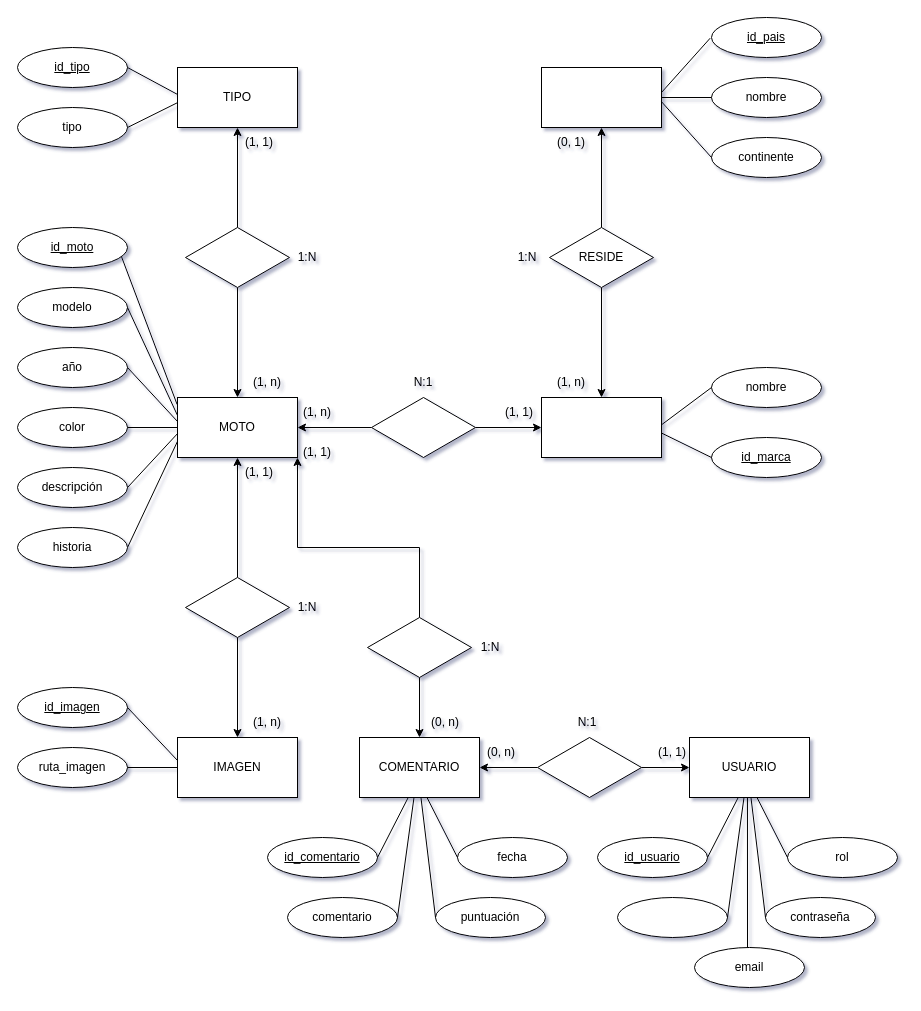
Some shapes in this 921 by 1011 pixel diagram are drawn without their labels. The shapes that lost their labels are listed below. From the top down, each one's box as (x1, y1, x2, y2) in pixels, then its label:
(540, 66, 662, 128): PAIS
(184, 226, 290, 288): CLASIFICADA
(370, 396, 476, 458): FABRICADA
(540, 396, 662, 458): MARCA
(184, 576, 290, 638): TIENE
(366, 616, 472, 678): RECIBE
(536, 736, 642, 798): ESCRIBE
(616, 896, 728, 938): nombre_usuario
